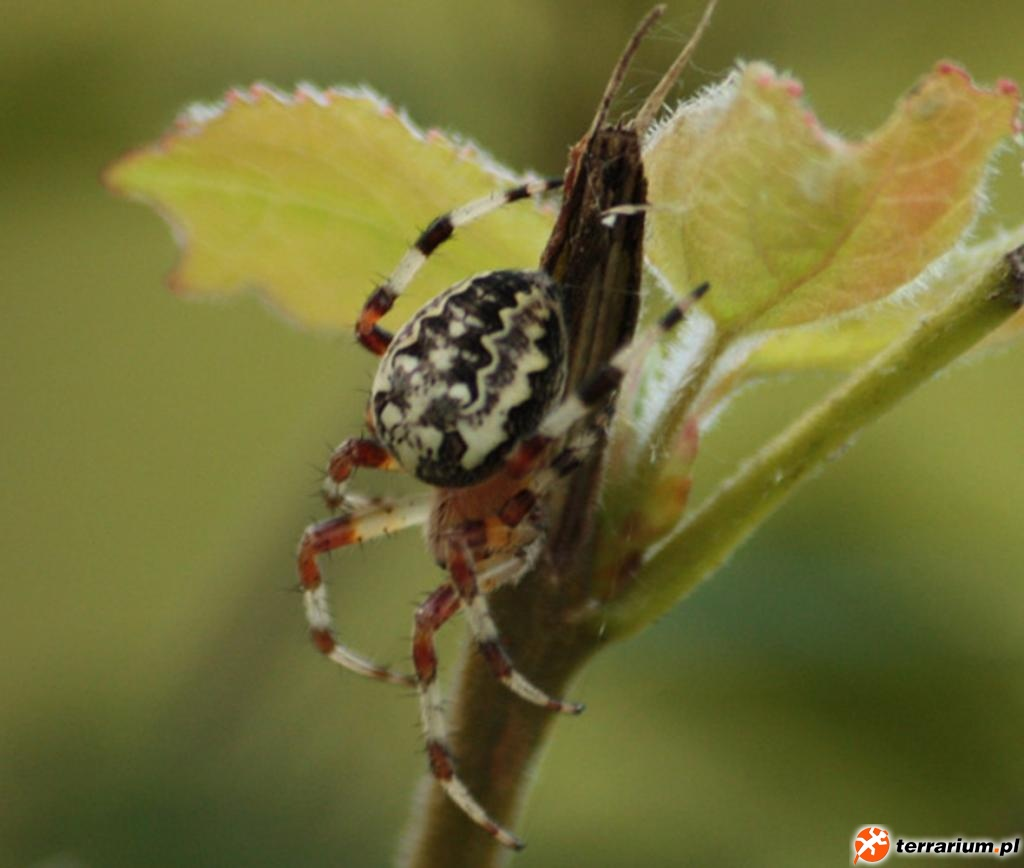spider: (256, 118, 644, 868)
